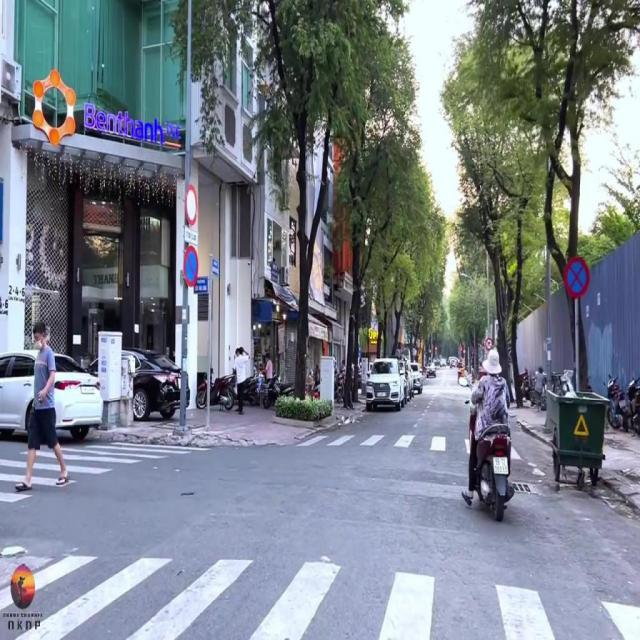cam_do_xe: (184, 245, 199, 288)
cam_dung_xe_va_do_xe: (564, 254, 590, 298)
cam_re_phai: (486, 339, 493, 349)
khac: (185, 183, 198, 224), (185, 225, 198, 245)
